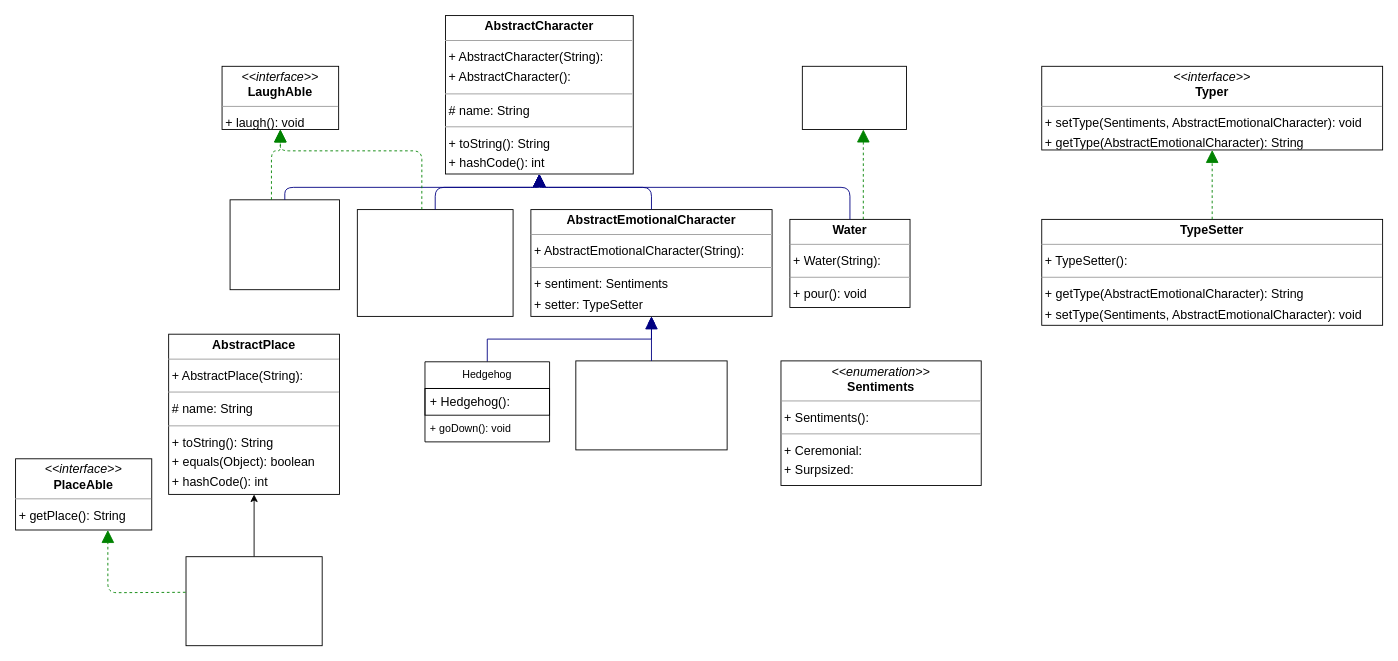
The diagram is 1398 pixels wide and 661 high, and some of its shapes have lost their labels. Here are the shapes that lost their labels. From the top down, the centre of each, then its label:
At (853,97): "<<interface>> Liquid + pour(): void".
At (284,244): "Others + Others(String): + laugh(): void".
At (434,262): "Snusmumrik + Snusmumrik(String): + laugh(): void + takeBreath(): void".
At (651,405): "Hemul + Hemul(String): + lookAround(): void".
At (253,601): "Room + Room(String): + getPlace(): String".
